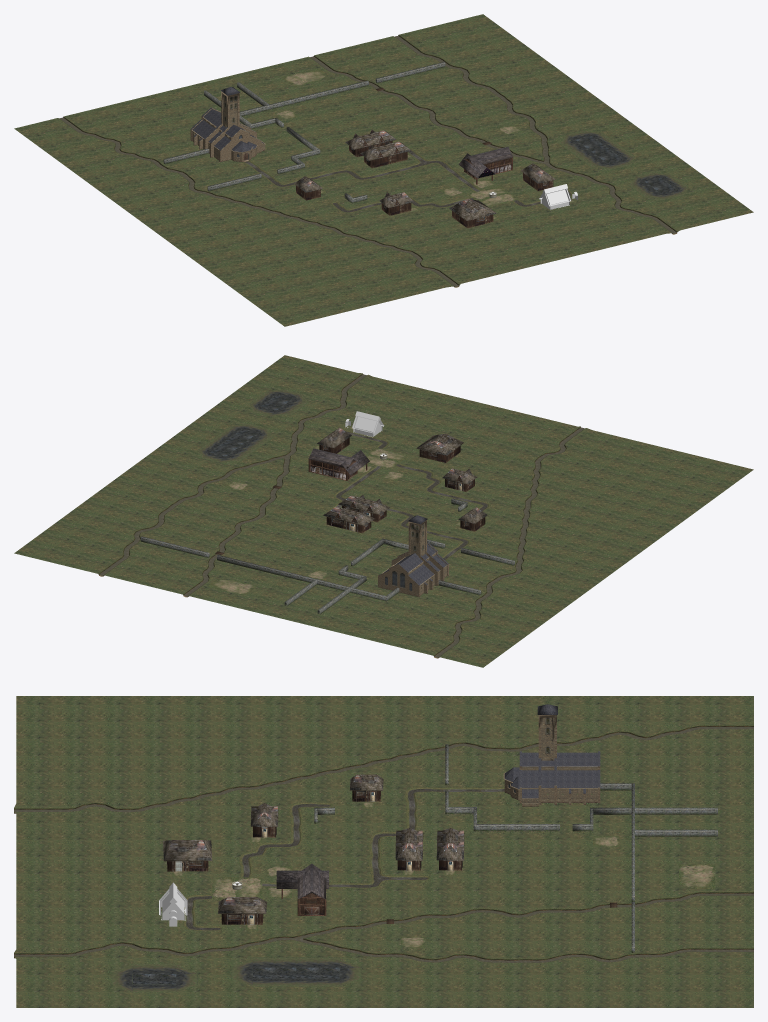
The model's file is tristram.glb.
3 renders of one model, top to bottom at view 1: azimuth 30°, elevation 25°; view 2: azimuth 150°, elevation 25°; view 3: azimuth 270°, elevation 25°, orthographic. The views are drawn at different scales.
Visible parts, largest first — view 1: Teren, &&_futro02.013_&&_futro02.006, Teren2, Cube; view 2: Teren, &&_futro02.013_&&_futro02.006, Teren2, Cube; view 3: Teren, &&_futro02.013_&&_futro02.006, Teren2, Cube.
Part boxes in pixels (x1,y1,x2,y2): Teren: (14,14,753,326); &&_futro02.013_&&_futro02.006: (59,36,676,286); Teren2: (275,68,687,219); Cube: (539,184,571,209); Teren: (14,355,753,667); &&_futro02.013_&&_futro02.006: (99,374,584,657); Teren2: (198,389,460,595); Cube: (352,411,384,437); Teren: (14,696,753,1007); &&_futro02.013_&&_futro02.006: (14,704,753,962); Teren2: (111,802,715,992); Cube: (159,882,187,920).
Size of the model in its own units: 136 by 19.32 by 137.
Materials: 56 (54 with a texture image).
